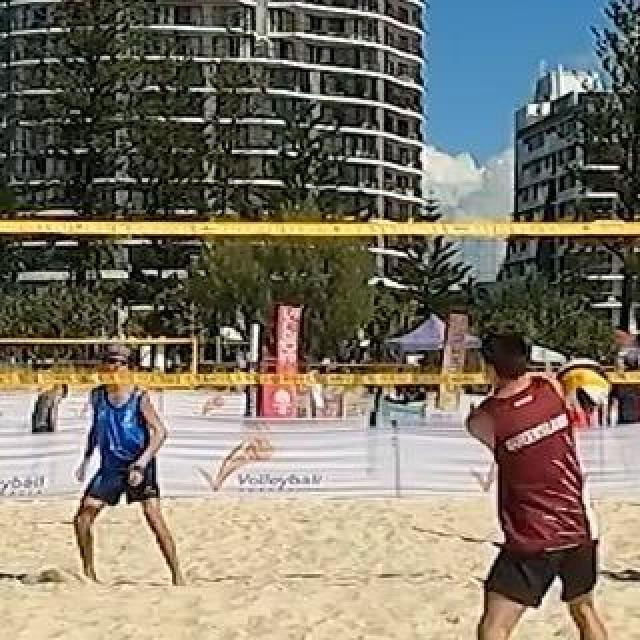volleyball: (558, 357, 608, 413)
